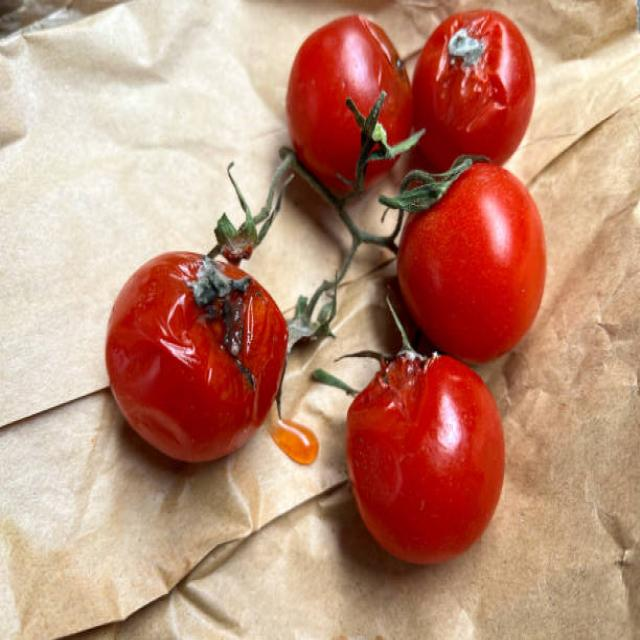damaged: (88, 238, 295, 488), (331, 349, 533, 573), (407, 4, 548, 171)
overripe: (260, 0, 422, 222), (396, 164, 552, 362)
